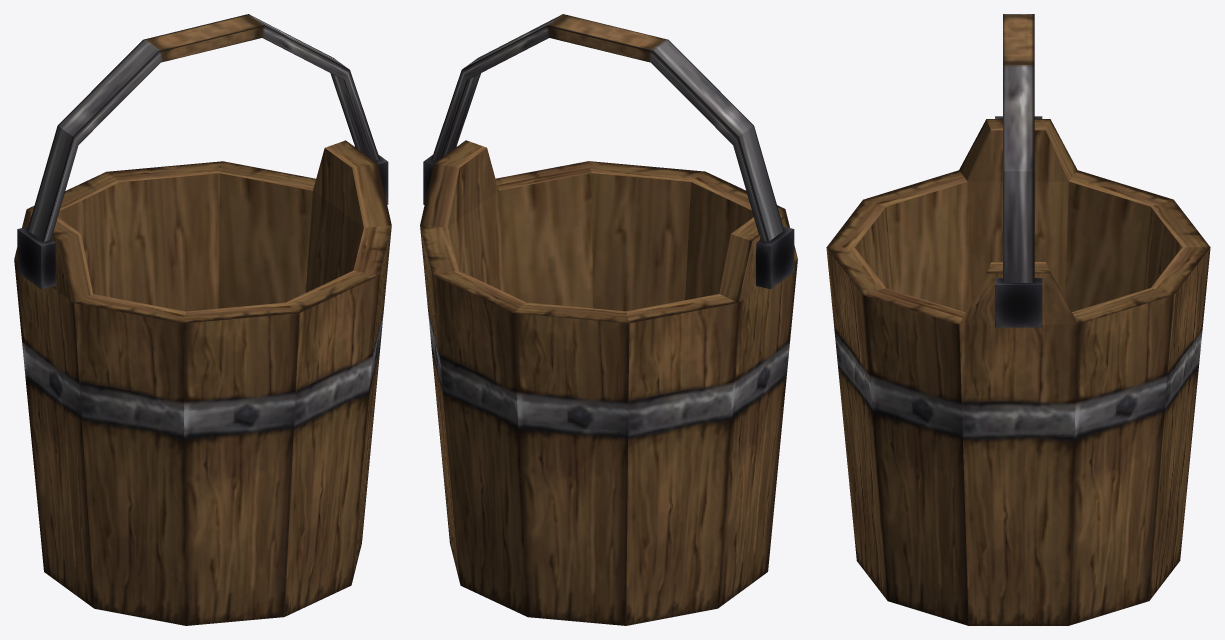
Rendered from fanasty_mod_bucket.fbx.
3 views of the same model, side by side, from view 1: azimuth 30°, elevation 25°; view 2: azimuth 150°, elevation 25°; view 3: azimuth 270°, elevation 25° (orthographic).
Visible parts, largest first — view 1: bucket; view 2: bucket; view 3: bucket.
Boxes of the visible parts, x1,y1,x2,y2 form: bucket: (14, 14, 391, 625); bucket: (420, 14, 797, 625); bucket: (826, 14, 1210, 625).
Size of the model in its own units: 1.08 by 1.56 by 1.04.
